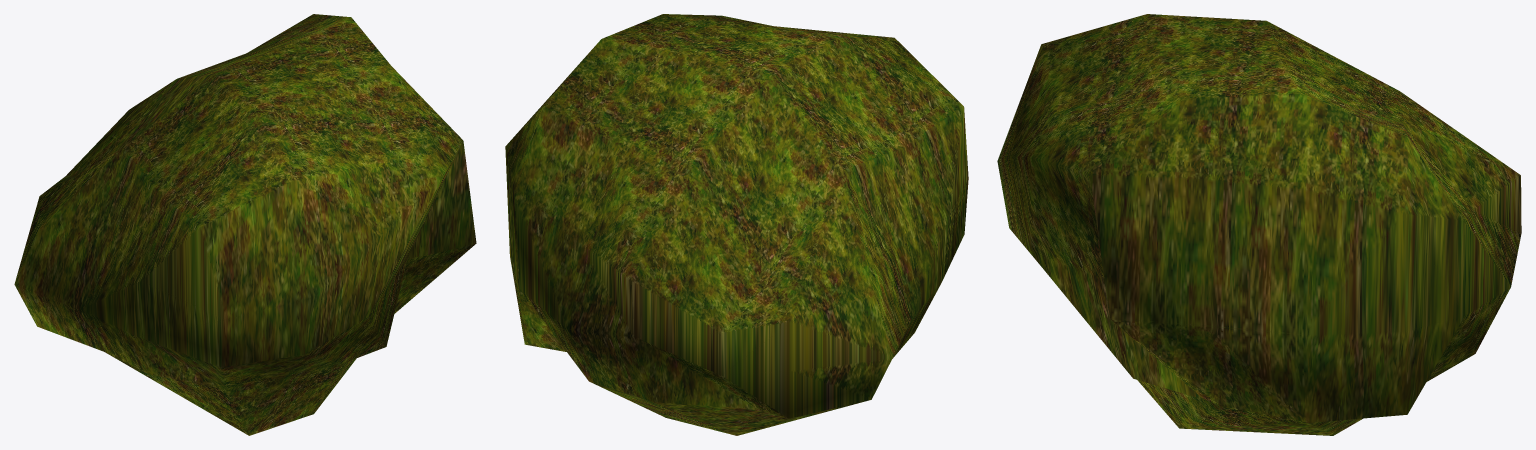
File: LVL_ROAST_MUTTON_ROCK04.fbx
The picture shows the model from 3 angles, left to right: view 1: azimuth 30°, elevation 25°; view 2: azimuth 150°, elevation 25°; view 3: azimuth 270°, elevation 25°; orthographic projection. The views are drawn at different scales.
Visible parts, largest first — view 1: LVL_ROAST_MUTTON_ROCK04; view 2: LVL_ROAST_MUTTON_ROCK04; view 3: LVL_ROAST_MUTTON_ROCK04.
Boxes of the visible parts, x1,y1,x2,y2 form: LVL_ROAST_MUTTON_ROCK04: [14, 14, 476, 435]; LVL_ROAST_MUTTON_ROCK04: [505, 14, 968, 435]; LVL_ROAST_MUTTON_ROCK04: [997, 14, 1521, 435].
Size of the model in its own units: 71350 by 62302 by 76835.
Materials: 1 (1 with a texture image).
